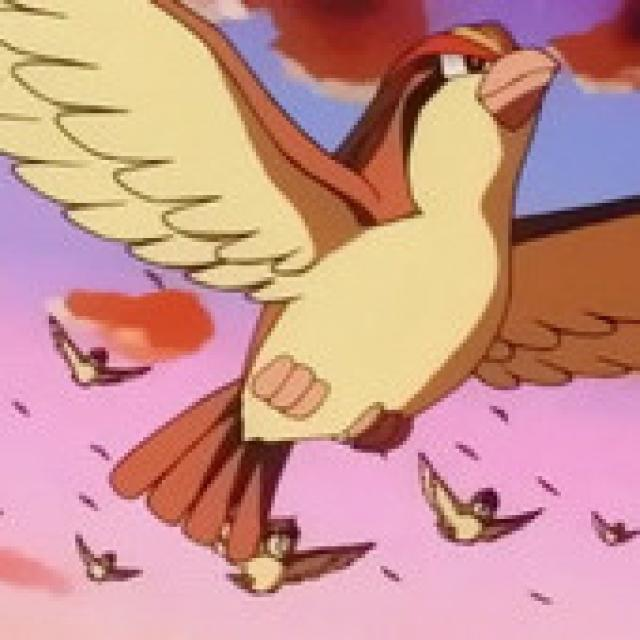Pidgeot: (198, 21, 604, 465)
